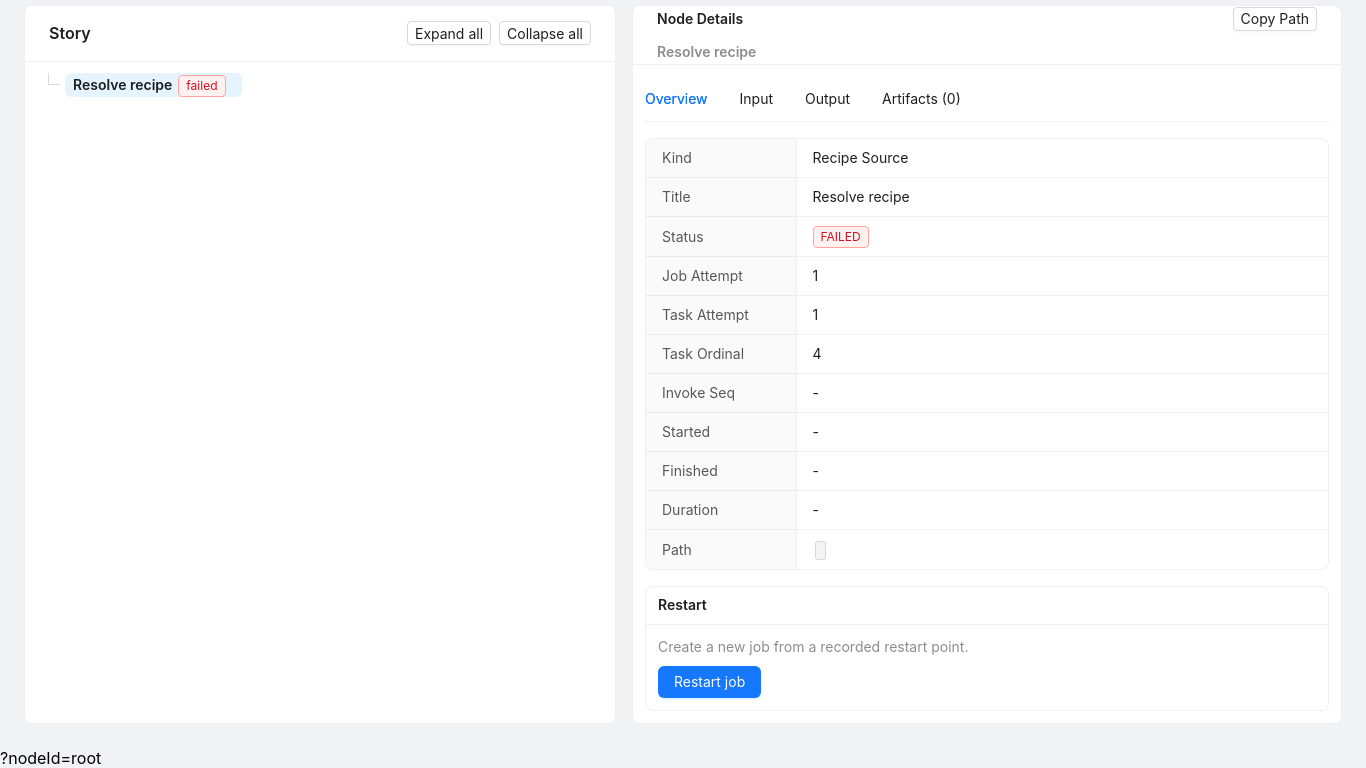
it: job story history › shows c2j’s unavailable reason instead of inferring a target
(page scrolled)
Click the button "Restart job": (710, 682) [658,666,761,698]
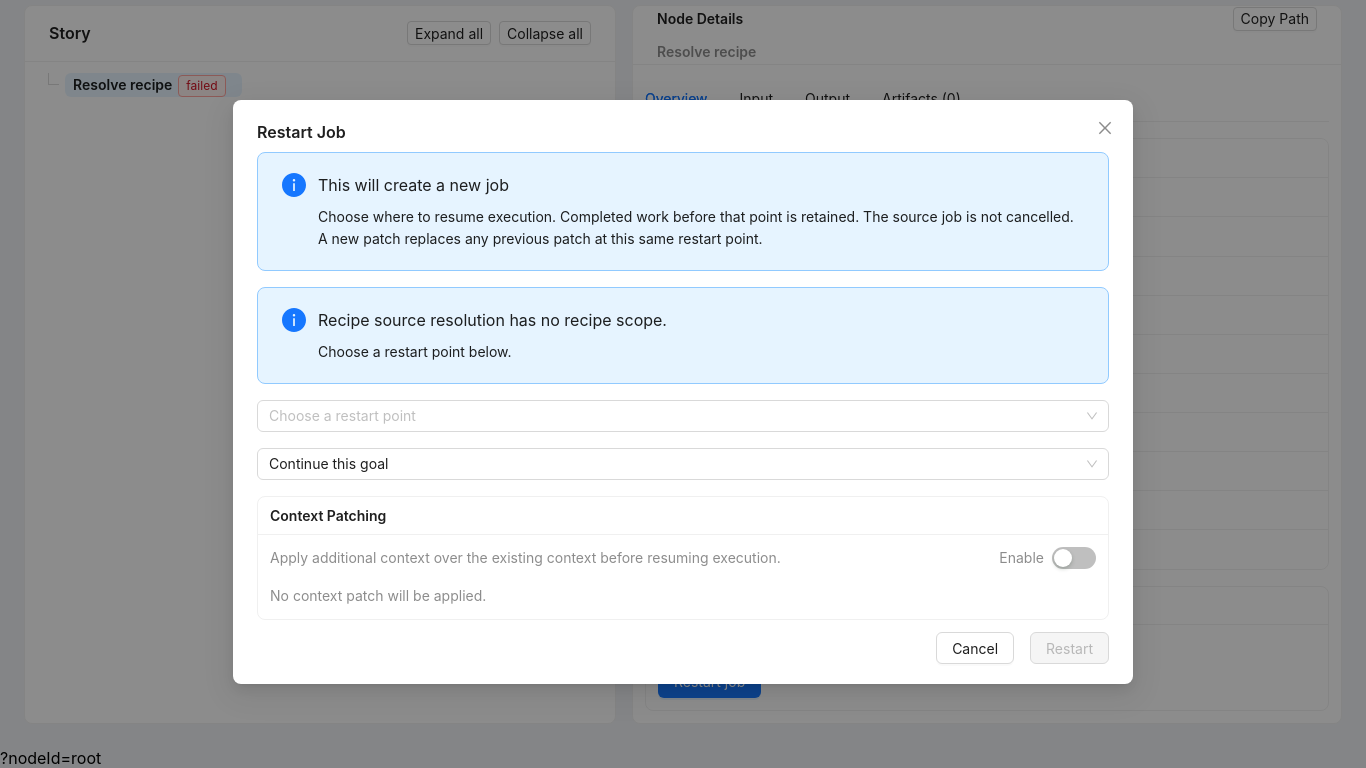
Expected: the text "Recipe source resolution has no recipe scope." is shown, [318,310,667,330]
Expected: the button "Restart" is disabled, [1030,632,1109,664]
